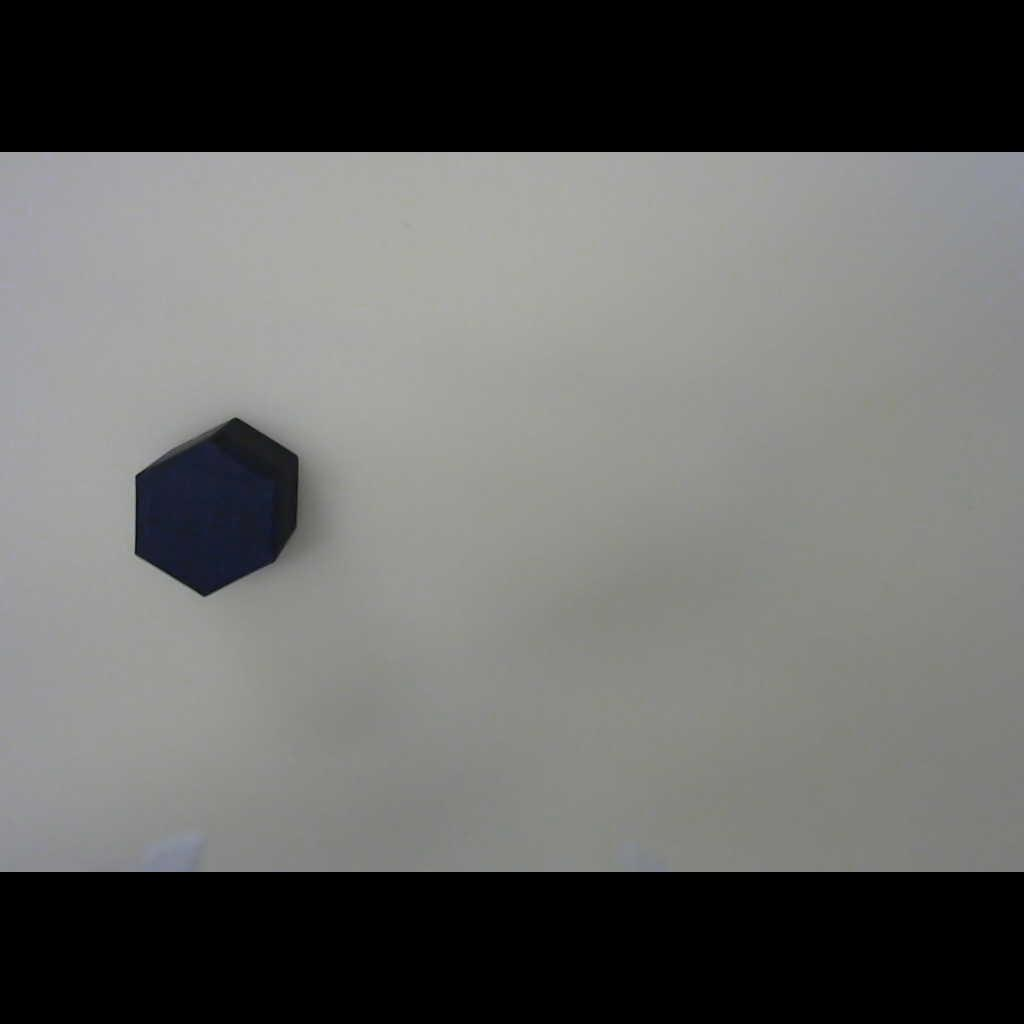hexagon: (115, 408, 315, 612)
